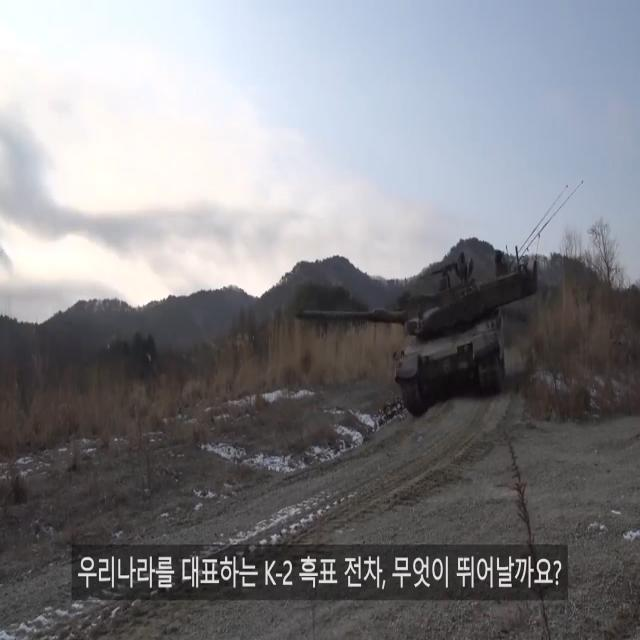korea tank: (291, 248, 539, 417)
